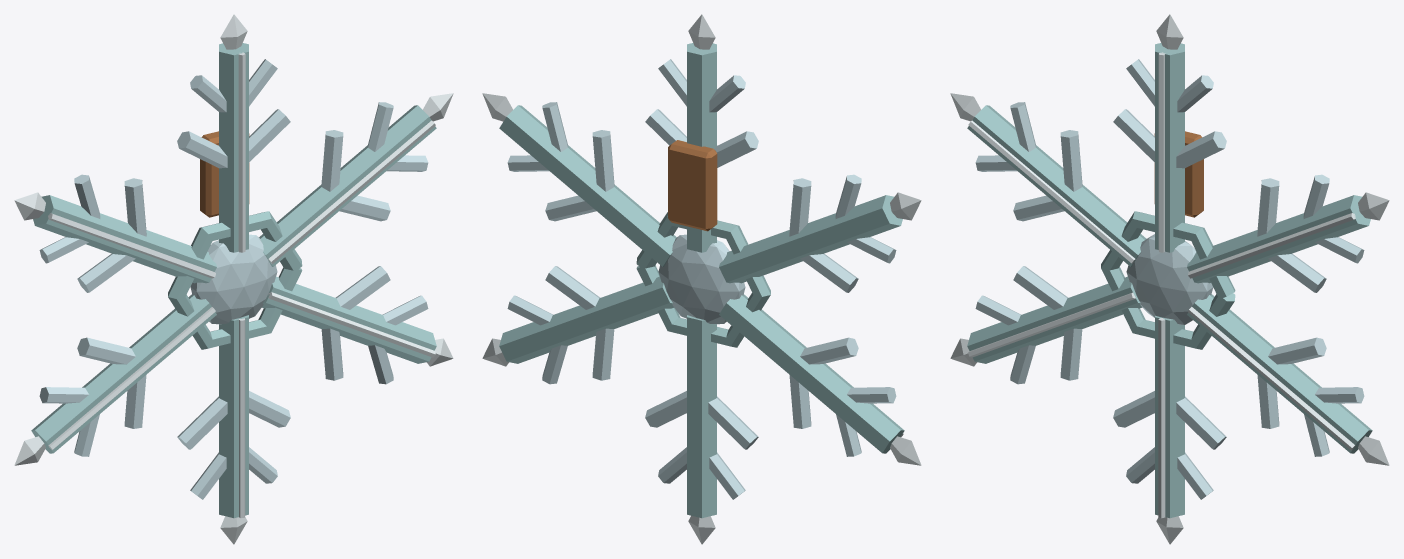
File: snowflake_wall.glb
The picture shows the model from 3 angles, left to right: view 1: azimuth 30°, elevation 25°; view 2: azimuth 150°, elevation 25°; view 3: azimuth 330°, elevation 25°; orthographic projection.
Visible parts, largest first — view 1: snowflake_wall; view 2: snowflake_wall; view 3: snowflake_wall.
Part boxes in pixels (x1,y1,x2,y2): snowflake_wall: (14, 14, 453, 544); snowflake_wall: (482, 14, 921, 544); snowflake_wall: (950, 14, 1389, 544).
Size of the model in its own units: 0.3516 by 0.406 by 0.034.
